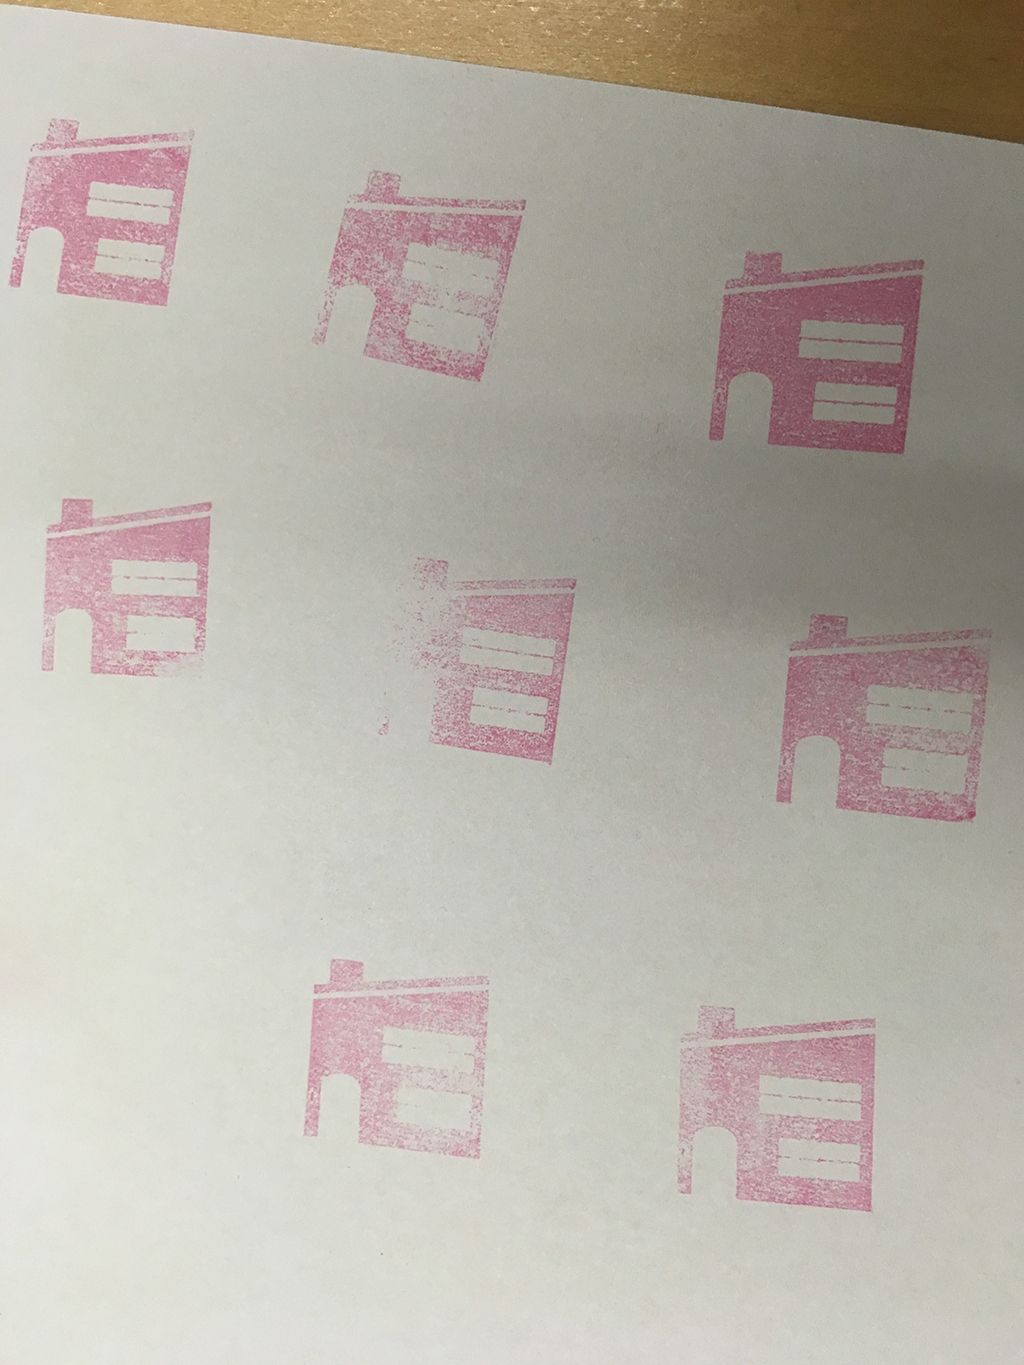house: (675, 231, 959, 475), (759, 591, 1005, 856), (291, 155, 550, 398), (652, 993, 900, 1228), (360, 544, 597, 785), (279, 943, 518, 1171), (1, 105, 216, 323), (31, 475, 221, 698)
